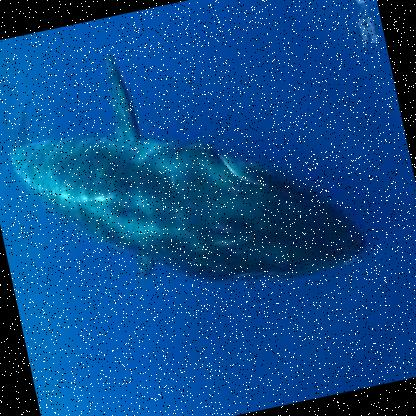blue_whale: (0, 18, 395, 415)
